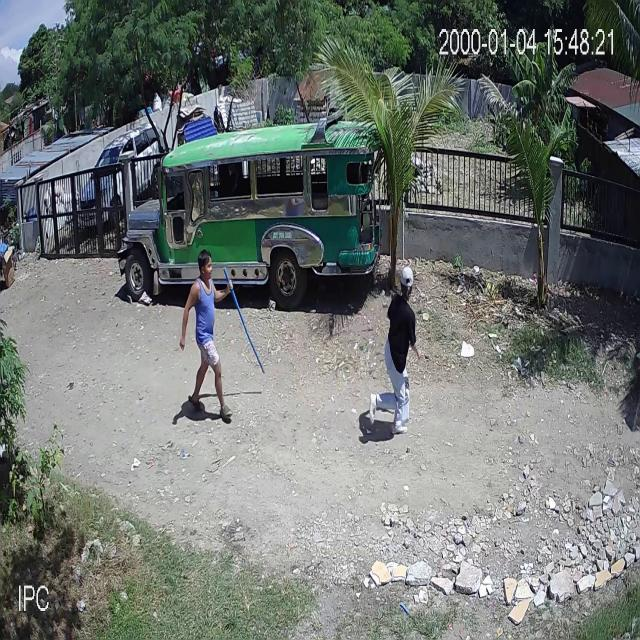running: (179, 250, 264, 416), (369, 264, 421, 433)
